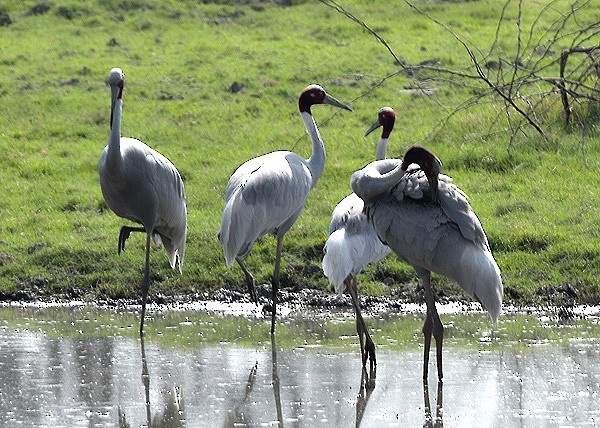crane: (208, 81, 358, 339), (353, 149, 514, 385), (99, 66, 198, 321), (365, 97, 399, 161)
